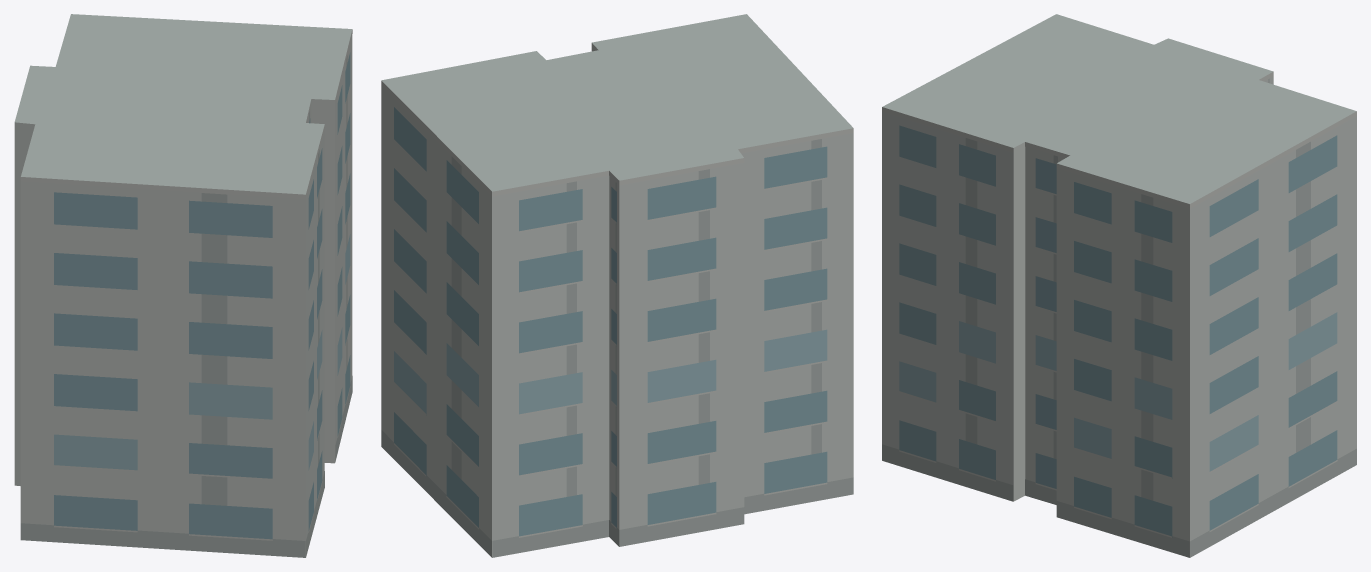
The model's file is survey-upis-32921996.glb.
3 views of the same model, side by side, from view 1: azimuth 30°, elevation 25°; view 2: azimuth 150°, elevation 25°; view 3: azimuth 270°, elevation 25° (orthographic). The views are drawn at different scales.
Parts seen in each view (by area): view 1: survey-upis-32921996.tmp; view 2: survey-upis-32921996.tmp; view 3: survey-upis-32921996.tmp.
Part boxes in pixels (x1,y1,x2,y2): survey-upis-32921996.tmp: (14,14,352,557); survey-upis-32921996.tmp: (381,14,853,557); survey-upis-32921996.tmp: (882,14,1356,557).
Size of the model in its own units: 21.1 by 18.3 by 22.27.
